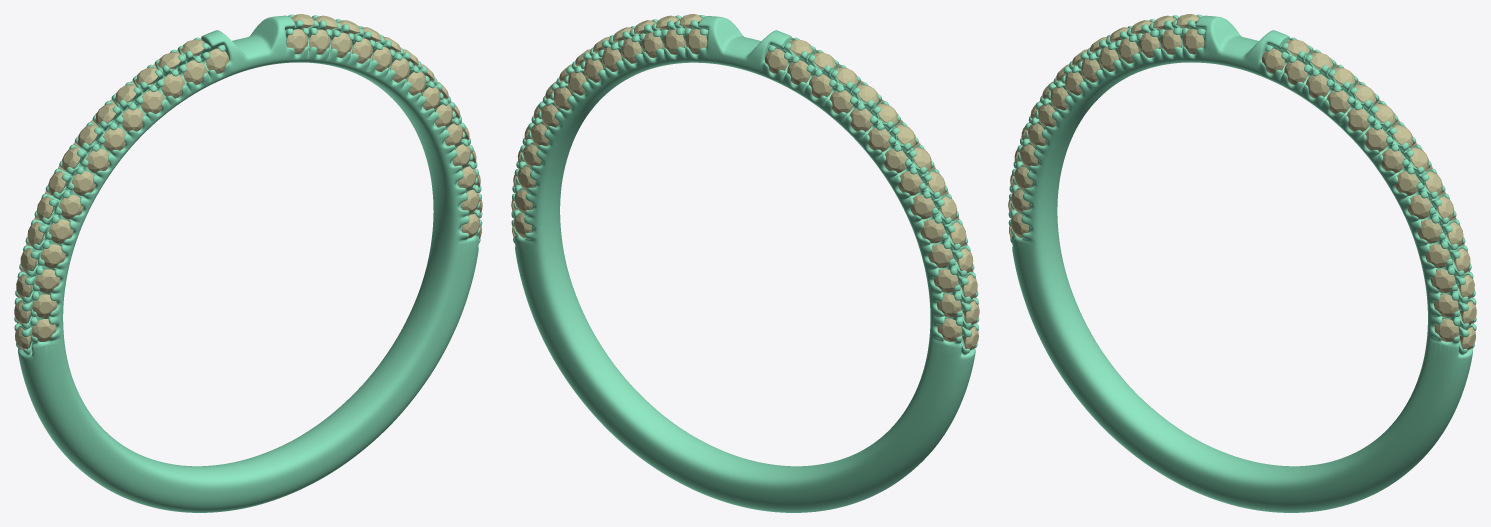
3 renders of one model, left to right at view 1: azimuth 30°, elevation 25°; view 2: azimuth 150°, elevation 25°; view 3: azimuth 330°, elevation 25°, orthographic.
Visible parts, largest first — view 1: Metal02; view 2: Metal02; view 3: Metal02.
Boxes of the visible parts, left/top/right/bottom form: Metal02: left=14, top=14, right=482, bottom=512; Metal02: left=511, top=15, right=979, bottom=512; Metal02: left=1008, top=14, right=1476, bottom=512.
Size of the model in its own units: 21.02 by 20.88 by 1.95.
